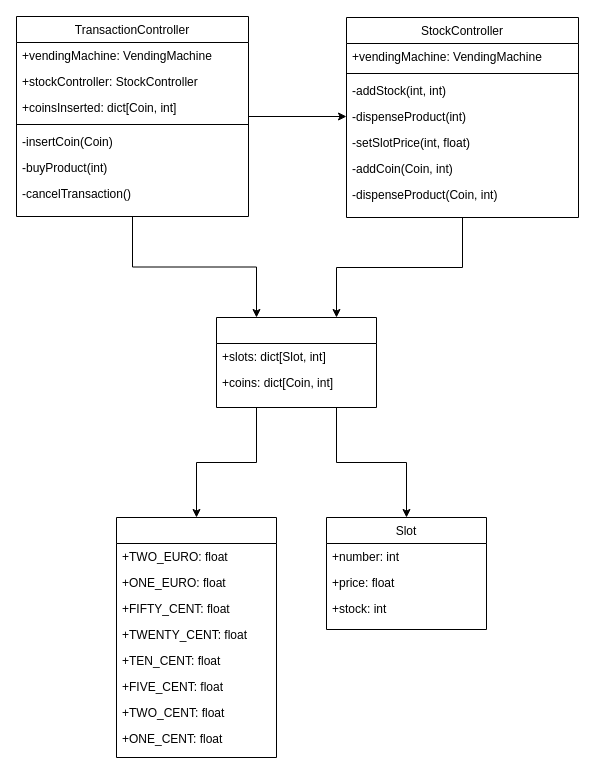
Some shapes in this 595 by 774 pixel diagram are drawn without their labels. Each missing label, with the box of its shape:
Coin: (116, 516, 276, 758)
VendingMachine: (216, 316, 376, 408)
